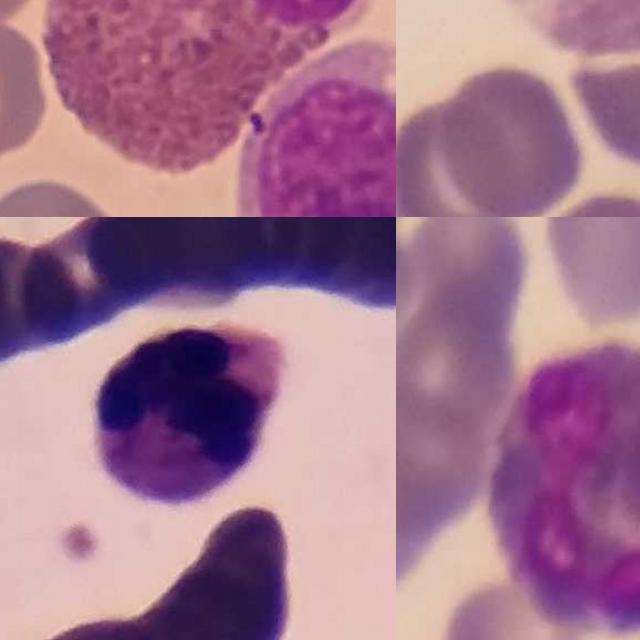Eosinophil: (42, 0, 373, 175), (486, 347, 640, 640)
Lymphocyte: (231, 33, 396, 217)
Neutrophil: (91, 321, 286, 506)
